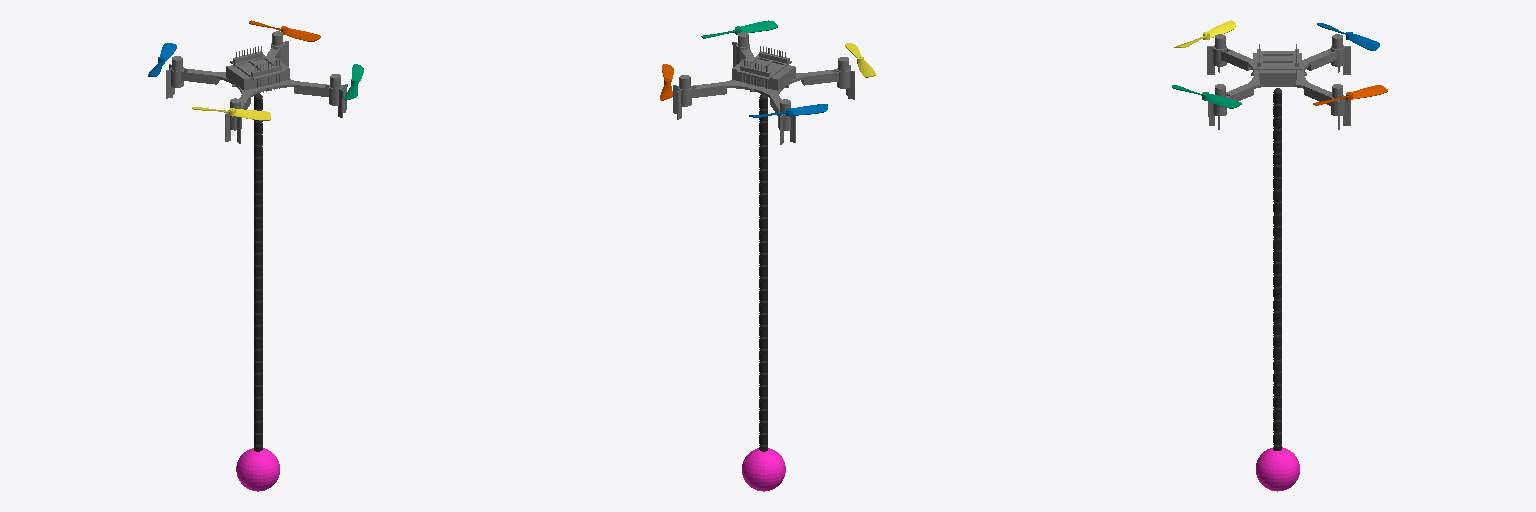
--- Facts derived from the render (not from the file) ---
Views: 3 orthographic renders of the robot side by side, from view 1: azimuth 30°, elevation 25°; view 2: azimuth 150°, elevation 25°; view 3: azimuth 270°, elevation 25°.
Robot: flexible_cable — 70 links, 69 joints (63 revolute, 6 fixed); root link world; default pose: all joints at 0.
Visible links, largest first — view 1: base_link, end_sphere; view 2: base_link, end_sphere; view 3: base_link, end_sphere.
Boxes of the visible links, x1,y1,x2,y2 form: base_link: [166, 31, 347, 143]; end_sphere: [236, 448, 279, 491]; base_link: [673, 32, 854, 144]; end_sphere: [742, 448, 785, 491]; base_link: [1207, 34, 1350, 129]; end_sphere: [1256, 447, 1299, 491].
Bounding box of the posed robot: 0.2255 × 0.2416 × 0.5423 m (x, y, z).
5 mesh visuals loaded from 5 distinct referenced files (5 OBJ).

URDF robot description (flexible_cable):
<?xml version="1.0" ?>
<!-- =================================================================================== -->
<!-- |    This document was autogenerated by xacro from model_impactor.urdf.xacro      | -->
<!-- |    EDITING THIS FILE BY HAND IS NOT RECOMMENDED                                 | -->
<!-- =================================================================================== -->
<robot name="flexible_cable">
  <properties arm="0.08" kf="3.16e-10" km="7.94e-12" thrust2weight="2.25" max_speed_kmh="30" gnd_eff_coeff="11.36859" prop_radius="2.31348e-2" drag_coeff_xy="9.1785e-3" drag_coeff_z="10.311e-3" dw_coeff_1="276700.18" dw_coeff_2=".16" dw_coeff_3="-.11" />
  <material name="blue">
    <color rgba="0.2 0.2 0.2 1"/>
  </material>
  <material name="gray">
    <color rgba="0.25 0.25 0.25 1"/>
  </material>
  <material name="dark_gray">
    <color rgba="0.2 0.2 0.2 1"/>
  </material>
  <material name="pink">
    <color rgba="1.0 0.2 0.8 1"/>
  </material>
  <material name="purple">
    <color rgba="0.8 0.2 0.8 1"/>
  </material>
  <material name="red">
    <color rgba="1.0 0.2 0.2 1"/>
  </material>
  <material name="orange">
    <color rgba="1.0 0.5 0.0 1"/>
  </material>
  <material name="green">
    <color rgba="0.2 0.8 0.2 1"/>
  </material>

  <link name="world"/>
  <link name="base_link">
    <inertial>
      <origin rpy="0 0 0" xyz="0 0 0"/>
      <mass value="0.3"/>
      <inertia ixx="5.6e-4" ixy="0.0" ixz="0.0" iyy="5.6e-4" iyz="0.0" izz="8.6e-4"/>
    </inertial>
    <visual>
      <origin rpy="0 0 0" xyz="0 0 0"/>
      <geometry>
        <mesh filename="./body.obj" scale="2.015 2.015 2.015"/>
      </geometry>
      <material name="grey">
        <color rgba=".5 .5 .5 1"/>
      </material>
    </visual>
    <collision>
      <origin rpy="0 0 0" xyz="0 0 0"/>
      <geometry>
        <box size=".16 .16 .05"/>
      </geometry>
    </collision>
  </link>
  <joint name="fixed_to_world" type="fixed">
    <parent link="world"/>
    <child link="base_link"/>
    <origin rpy="0 0 0" xyz="0 0 0"/>
  </joint>
  <link name="prop0_link">
    <inertial>
      <origin rpy="0 0 0" xyz="0.08 -0.08 0"/>
      <mass value="0"/>
      <inertia ixx="0" ixy="0" ixz="0" iyy="0" iyz="0" izz="0"/>
    </inertial>
    <visual>
      <origin rpy="0 0 0" xyz="0.08 -0.08 0.0175"/>
      <geometry>
        <mesh filename="./propeller0.obj" scale="2.015 2.015 2.015"/>
      </geometry>
    </visual>
  </link>
  <joint name="prop0_joint" type="fixed">
    <parent link="base_link"/>
    <child link="prop0_link"/>
  </joint>
  <link name="prop1_link">
    <inertial>
      <origin rpy="0 0 0" xyz="-0.08 -0.08 0"/>
      <mass value="0"/>
      <inertia ixx="0" ixy="0" ixz="0" iyy="0" iyz="0" izz="0"/>
    </inertial>
    <visual>
      <origin rpy="0 0 0" xyz="-0.08 -0.08 0.0175"/>
      <geometry>
        <mesh filename="./propeller1.obj" scale="2.015 2.015 2.015"/>
      </geometry>
    </visual>
  </link>
  <joint name="prop1_joint" type="fixed">
    <parent link="base_link"/>
    <child link="prop1_link"/>
  </joint>
  <link name="prop2_link">
    <inertial>
      <origin rpy="0 0 0" xyz="-0.08 0.08 0"/>
      <mass value="0"/>
      <inertia ixx="0" ixy="0" ixz="0" iyy="0" iyz="0" izz="0"/>
    </inertial>
    <visual>
      <origin rpy="0 0 0" xyz="-0.08 0.08 0.0175"/>
      <geometry>
        <mesh filename="./propeller2.obj" scale="2.015 2.015 2.015"/>
      </geometry>
    </visual>
  </link>
  <joint name="prop2_joint" type="fixed">
    <parent link="base_link"/>
    <child link="prop2_link"/>
  </joint>
  <link name="prop3_link">
    <inertial>
      <origin rpy="0 0 0" xyz="0.08 0.08 0"/>
      <mass value="0"/>
      <inertia ixx="0" ixy="0" ixz="0" iyy="0" iyz="0" izz="0"/>
    </inertial>
    <visual>
      <origin rpy="0 0 0" xyz="0.08 0.08 0.0175"/>
      <geometry>
        <mesh filename="./propeller3.obj" scale="2.015 2.015 2.015"/>
      </geometry>
    </visual>
  </link>
  <joint name="prop3_joint" type="fixed">
    <parent link="base_link"/>
    <child link="prop3_link"/>
  </joint>
  <link name="center_of_mass_link">
    <inertial>
      <origin rpy="0 0 0" xyz="0 0 0"/>
      <mass value="0"/>
      <inertia ixx="0" ixy="0" ixz="0" iyy="0" iyz="0" izz="0"/>
    </inertial>
  </link>
  <joint name="center_of_mass_joint" type="fixed">
    <parent link="base_link"/>
    <child link="center_of_mass_link"/>
  </joint>

  <!-- Spherical joint -->
  <link name="segment_1_sphere">
    <visual>
      <geometry>
        <sphere radius="0.005"/>
      </geometry>
      <material name="gray"/>
    </visual>
    <collision>
      <geometry>
        <sphere radius="0.005"/>
      </geometry>
    </collision>
    <inertial>
      <mass value="1e-04"/>
      <inertia ixx="1e-6" ixy="0" ixz="0" iyy="1e-6" iyz="0" izz="1e-6"/>
    </inertial>
  </link>
  <joint name="center_of_mass_link_to_segment_1_sphere" type="revolute">
    <parent link="center_of_mass_link"/>
    <child link="segment_1_sphere"/>
    <origin rpy="0 0 0" xyz="0 0 -0.015"/>
    <axis xyz="0 1 0"/>
    <limit effort="10" lower="-3.14" upper="3.14" velocity="3"/>
    <dynamics damping="0.1" friction="0.0"/>
  </joint>
  <!-- Cylinder segment -->
  <link name="segment_1_cylinder">
    <visual>
      <geometry>
        <cylinder length="0.01" radius="0.005"/>
      </geometry>
      <origin rpy="0 0 0" xyz="0 0 -0.0075"/>
      <material name="blue"/>
    </visual>
    <collision>
      <geometry>
        <cylinder length="0.01" radius="0.005"/>
      </geometry>
      <origin rpy="0 0 0" xyz="0 0 -0.0075"/>
    </collision>
    <inertial>
      <mass value="0.0001"/>
      <inertia ixx="2.5e-05" ixy="0" ixz="0" iyy="2.5e-05" iyz="0" izz="1.25e-05"/>
      <origin rpy="0 0 0" xyz="0 0 -0.0075"/>
    </inertial>
  </link>
  <joint name="segment_1_sphere_to_cylinder" type="revolute">
    <parent link="segment_1_sphere"/>
    <child link="segment_1_cylinder"/>
    <origin rpy="0 0 0" xyz="0 0 0"/>
    <axis xyz="1 0 0"/>
    <limit effort="10" lower="-3.14" upper="3.14" velocity="3"/>
    <dynamics damping="0.1" friction="0.0"/>
  </joint>

  <!-- Spherical joint -->
  <link name="segment_2_sphere">
    <visual>
      <geometry>
        <sphere radius="0.005"/>
      </geometry>
      <material name="gray"/>
    </visual>
    <collision>
      <geometry>
        <sphere radius="0.005"/>
      </geometry>
    </collision>
    <inertial>
      <mass value="1e-04"/> # -6
      <inertia ixx="1e-6" ixy="0" ixz="0" iyy="1e-6" iyz="0" izz="1e-6"/> # -12
    </inertial>
  </link>
  <joint name="segment_1_cylinder_to_segment_2_sphere" type="revolute">
    <parent link="segment_1_cylinder"/>
    <child link="segment_2_sphere"/>
    <origin rpy="0 0 0" xyz="0 0 -0.015"/>
    <axis xyz="0 1 0"/>
    <limit effort="10" lower="-3.14" upper="3.14" velocity="3"/>
    <dynamics damping="0.1" friction="0.0"/>
  </joint>
  <!-- Cylinder segment -->
  <link name="segment_2_cylinder">
    <visual>
      <geometry>
        <cylinder length="0.01" radius="0.005"/>
      </geometry>
      <origin rpy="0 0 0" xyz="0 0 -0.0075"/>
      <material name="blue"/>
    </visual>
    <collision>
      <geometry>
        <cylinder length="0.01" radius="0.005"/>
      </geometry>
      <origin rpy="0 0 0" xyz="0 0 -0.0075"/>
    </collision>
    <inertial>
      <mass value="0.0001"/>
      <inertia ixx="2.5e-05" ixy="0" ixz="0" iyy="2.5e-05" iyz="0" izz="1.25e-05"/> #-9
      <origin rpy="0 0 0" xyz="0 0 -0.0075"/>
    </inertial>
  </link>
  <joint name="segment_2_sphere_to_cylinder" type="revolute">
    <parent link="segment_2_sphere"/>
    <child link="segment_2_cylinder"/>
    <origin rpy="0 0 0" xyz="0 0 0"/>
    <axis xyz="1 0 0"/>
    <limit effort="10" lower="-3.14" upper="3.14" velocity="3"/>
    <dynamics damping="0.1" friction="0.0"/>
  </joint>

  <!-- Spherical joint -->
  <link name="segment_3_sphere">
    <visual>
      <geometry>
        <sphere radius="0.005"/>
      </geometry>
      <material name="gray"/>
    </visual>
    <collision>
      <geometry>
        <sphere radius="0.005"/>
      </geometry>
    </collision>
    <inertial>
      <mass value="1e-04"/>
      <inertia ixx="1e-6" ixy="0" ixz="0" iyy="1e-6" iyz="0" izz="1e-6"/>
    </inertial>
  </link>
  <joint name="segment_2_cylinder_to_segment_3_sphere" type="revolute">
    <parent link="segment_2_cylinder"/>
    <child link="segment_3_sphere"/>
    <origin rpy="0 0 0" xyz="0 0 -0.015"/>
    <axis xyz="0 1 0"/>
    <limit effort="10" lower="-3.14" upper="3.14" velocity="3"/>
    <dynamics damping="0.1" friction="0.0"/>
  </joint>
  <!-- Cylinder segment -->
  <link name="segment_3_cylinder">
    <visual>
      <geometry>
        <cylinder length="0.01" radius="0.005"/>
      </geometry>
      <origin rpy="0 0 0" xyz="0 0 -0.0075"/>
      <material name="blue"/>
    </visual>
    <collision>
      <geometry>
        <cylinder length="0.01" radius="0.005"/>
      </geometry>
      <origin rpy="0 0 0" xyz="0 0 -0.0075"/>
    </collision>
    <inertial>
      <mass value="0.0001"/>
      <inertia ixx="2.5e-05" ixy="0" ixz="0" iyy="2.5e-05" iyz="0" izz="1.25e-05"/>
      <origin rpy="0 0 0" xyz="0 0 -0.0075"/>
    </inertial>
  </link>
  <joint name="segment_3_sphere_to_cylinder" type="revolute">
    <parent link="segment_3_sphere"/>
    <child link="segment_3_cylinder"/>
    <origin rpy="0 0 0" xyz="0 0 0"/>
    <axis xyz="1 0 0"/>
    <limit effort="10" lower="-3.14" upper="3.14" velocity="3"/>
    <dynamics damping="0.1" friction="0.0"/>
  </joint>

  <!-- Spherical joint -->
  <link name="segment_4_sphere">
    <visual>
      <geometry>
        <sphere radius="0.005"/>
      </geometry>
      <material name="gray"/>
    </visual>
    <collision>
      <geometry>
        <sphere radius="0.005"/>
      </geometry>
    </collision>
    <inertial>
      <mass value="1e-04"/>
      <inertia ixx="1e-6" ixy="0" ixz="0" iyy="1e-6" iyz="0" izz="1e-6"/>
    </inertial>
  </link>
  <joint name="segment_3_cylinder_to_segment_4_sphere" type="revolute">
    <parent link="segment_3_cylinder"/>
    <child link="segment_4_sphere"/>
    <origin rpy="0 0 0" xyz="0 0 -0.015"/>
    <axis xyz="0 1 0"/>
    <limit effort="10" lower="-3.14" upper="3.14" velocity="3"/>
    <dynamics damping="0.1" friction="0.0"/>
  </joint>
  <!-- Cylinder segment -->
  <link name="segment_4_cylinder">
    <visual>
      <geometry>
        <cylinder length="0.01" radius="0.005"/>
      </geometry>
      <origin rpy="0 0 0" xyz="0 0 -0.0075"/>
      <material name="blue"/>
    </visual>
    <collision>
      <geometry>
        <cylinder length="0.01" radius="0.005"/>
      </geometry>
      <origin rpy="0 0 0" xyz="0 0 -0.0075"/>
    </collision>
    <inertial>
      <mass value="0.0001"/>
      <inertia ixx="2.5e-05" ixy="0" ixz="0" iyy="2.5e-05" iyz="0" izz="1.25e-05"/>
      <origin rpy="0 0 0" xyz="0 0 -0.0075"/>
    </inertial>
  </link>
  <joint name="segment_4_sphere_to_cylinder" type="revolute">
    <parent link="segment_4_sphere"/>
    <child link="segment_4_cylinder"/>
    <origin rpy="0 0 0" xyz="0 0 0"/>
    <axis xyz="1 0 0"/>
    <limit effort="10" lower="-3.14" upper="3.14" velocity="3"/>
    <dynamics damping="0.1" friction="0.0"/>
  </joint>

  <!-- Spherical joint -->
  <link name="segment_5_sphere">
    <visual>
      <geometry>
        <sphere radius="0.005"/>
      </geometry>
      <material name="gray"/>
    </visual>
    <collision>
      <geometry>
        <sphere radius="0.005"/>
      </geometry>
    </collision>
    <inertial>
      <mass value="1e-04"/>
      <inertia ixx="1e-6" ixy="0" ixz="0" iyy="1e-6" iyz="0" izz="1e-6"/>
    </inertial>
  </link>
  <joint name="segment_4_cylinder_to_segment_5_sphere" type="revolute">
    <parent link="segment_4_cylinder"/>
    <child link="segment_5_sphere"/>
    <origin rpy="0 0 0" xyz="0 0 -0.015"/>
    <axis xyz="0 1 0"/>
    <limit effort="10" lower="-3.14" upper="3.14" velocity="3"/>
    <dynamics damping="0.1" friction="0.0"/>
  </joint>
  <!-- Cylinder segment -->
  <link name="segment_5_cylinder">
    <visual>
      <geometry>
        <cylinder length="0.01" radius="0.005"/>
      </geometry>
      <origin rpy="0 0 0" xyz="0 0 -0.0075"/>
      <material name="blue"/>
    </visual>
    <collision>
      <geometry>
        <cylinder length="0.01" radius="0.005"/>
      </geometry>
      <origin rpy="0 0 0" xyz="0 0 -0.0075"/>
    </collision>
    <inertial>
      <mass value="0.0001"/>
      <inertia ixx="2.5e-05" ixy="0" ixz="0" iyy="2.5e-05" iyz="0" izz="1.25e-05"/>
      <origin rpy="0 0 0" xyz="0 0 -0.0075"/>
    </inertial>
  </link>
  <joint name="segment_5_sphere_to_cylinder" type="revolute">
    <parent link="segment_5_sphere"/>
    <child link="segment_5_cylinder"/>
    <origin rpy="0 0 0" xyz="0 0 0"/>
    <axis xyz="1 0 0"/>
    <limit effort="10" lower="-3.14" upper="3.14" velocity="3"/>
    <dynamics damping="0.1" friction="0.0"/>
  </joint>

  <!-- Spherical joint -->
  <link name="segment_6_sphere">
    <visual>
      <geometry>
        <sphere radius="0.005"/>
      </geometry>
      <material name="gray"/>
    </visual>
    <collision>
      <geometry>
        <sphere radius="0.005"/>
      </geometry>
    </collision>
    <inertial>
      <mass value="1e-04"/>
      <inertia ixx="1e-6" ixy="0" ixz="0" iyy="1e-6" iyz="0" izz="1e-6"/>
    </inertial>
  </link>
  <joint name="segment_5_cylinder_to_segment_6_sphere" type="revolute">
    <parent link="segment_5_cylinder"/>
    <child link="segment_6_sphere"/>
    <origin rpy="0 0 0" xyz="0 0 -0.015"/>
    <axis xyz="0 1 0"/>
    <limit effort="10" lower="-3.14" upper="3.14" velocity="3"/>
    <dynamics damping="0.1" friction="0.0"/>
  </joint>
  <!-- Cylinder segment -->
  <link name="segment_6_cylinder">
    <visual>
      <geometry>
        <cylinder length="0.01" radius="0.005"/>
      </geometry>
      <origin rpy="0 0 0" xyz="0 0 -0.0075"/>
      <material name="blue"/>
    </visual>
    <collision>
      <geometry>
        <cylinder length="0.01" radius="0.005"/>
      </geometry>
      <origin rpy="0 0 0" xyz="0 0 -0.0075"/>
    </collision>
    <inertial>
      <mass value="0.0001"/>
      <inertia ixx="2.5e-05" ixy="0" ixz="0" iyy="2.5e-05" iyz="0" izz="1.25e-05"/>
      <origin rpy="0 0 0" xyz="0 0 -0.0075"/>
    </inertial>
  </link>
  <joint name="segment_6_sphere_to_cylinder" type="revolute">
    <parent link="segment_6_sphere"/>
    <child link="segment_6_cylinder"/>
    <origin rpy="0 0 0" xyz="0 0 0"/>
    <axis xyz="1 0 0"/>
    <limit effort="10" lower="-3.14" upper="3.14" velocity="3"/>
    <dynamics damping="0.1" friction="0.0"/>
  </joint>

  <!-- Spherical joint -->
  <link name="segment_7_sphere">
    <visual>
      <geometry>
        <sphere radius="0.005"/>
      </geometry>
      <material name="gray"/>
    </visual>
    <collision>
      <geometry>
        <sphere radius="0.005"/>
      </geometry>
    </collision>
    <inertial>
      <mass value="1e-04"/>
      <inertia ixx="1e-6" ixy="0" ixz="0" iyy="1e-6" iyz="0" izz="1e-6"/>
    </inertial>
  </link>
  <joint name="segment_6_cylinder_to_segment_7_sphere" type="revolute">
    <parent link="segment_6_cylinder"/>
    <child link="segment_7_sphere"/>
    <origin rpy="0 0 0" xyz="0 0 -0.015"/>
    <axis xyz="0 1 0"/>
    <limit effort="10" lower="-3.14" upper="3.14" velocity="3"/>
    <dynamics damping="0.1" friction="0.0"/>
  </joint>
  <!-- Cylinder segment -->
  <link name="segment_7_cylinder">
    <visual>
      <geometry>
        <cylinder length="0.01" radius="0.005"/>
      </geometry>
      <origin rpy="0 0 0" xyz="0 0 -0.0075"/>
      <material name="blue"/>
    </visual>
    <collision>
      <geometry>
        <cylinder length="0.01" radius="0.005"/>
      </geometry>
      <origin rpy="0 0 0" xyz="0 0 -0.0075"/>
    </collision>
    <inertial>
      <mass value="0.0001"/>
      <inertia ixx="2.5e-05" ixy="0" ixz="0" iyy="2.5e-05" iyz="0" izz="1.25e-05"/>
      <origin rpy="0 0 0" xyz="0 0 -0.0075"/>
    </inertial>
  </link>
  <joint name="segment_7_sphere_to_cylinder" type="revolute">
    <parent link="segment_7_sphere"/>
    <child link="segment_7_cylinder"/>
    <origin rpy="0 0 0" xyz="0 0 0"/>
    <axis xyz="1 0 0"/>
    <limit effort="10" lower="-3.14" upper="3.14" velocity="3"/>
    <dynamics damping="0.1" friction="0.0"/>
  </joint>

  <!-- Spherical joint -->
  <link name="segment_8_sphere">
    <visual>
      <geometry>
        <sphere radius="0.005"/>
      </geometry>
      <material name="gray"/>
    </visual>
    <collision>
      <geometry>
        <sphere radius="0.005"/>
      </geometry>
    </collision>
    <inertial>
      <mass value="1e-04"/>
      <inertia ixx="1e-6" ixy="0" ixz="0" iyy="1e-6" iyz="0" izz="1e-6"/>
    </inertial>
  </link>
  <joint name="segment_7_cylinder_to_segment_8_sphere" type="revolute">
    <parent link="segment_7_cylinder"/>
    <child link="segment_8_sphere"/>
    <origin rpy="0 0 0" xyz="0 0 -0.015"/>
    <axis xyz="0 1 0"/>
    <limit effort="10" lower="-3.14" upper="3.14" velocity="3"/>
    <dynamics damping="0.1" friction="0.0"/>
  </joint>
  <!-- Cylinder segment -->
  <link name="segment_8_cylinder">
    <visual>
      <geometry>
        <cylinder length="0.01" radius="0.005"/>
      </geometry>
      <origin rpy="0 0 0" xyz="0 0 -0.0075"/>
      <material name="blue"/>
    </visual>
    <collision>
      <geometry>
        <cylinder length="0.01" radius="0.005"/>
      </geometry>
      <origin rpy="0 0 0" xyz="0 0 -0.0075"/>
    </collision>
    <inertial>
      <mass value="0.0001"/>
      <inertia ixx="2.5e-05" ixy="0" ixz="0" iyy="2.5e-05" iyz="0" izz="1.25e-05"/>
      <origin rpy="0 0 0" xyz="0 0 -0.0075"/>
    </inertial>
  </link>
  <joint name="segment_8_sphere_to_cylinder" type="revolute">
    <parent link="segment_8_sphere"/>
    <child link="segment_8_cylinder"/>
    <origin rpy="0 0 0" xyz="0 0 0"/>
    <axis xyz="1 0 0"/>
    <limit effort="10" lower="-3.14" upper="3.14" velocity="3"/>
    <dynamics damping="0.1" friction="0.0"/>
  </joint>

  <!-- Spherical joint -->
  <link name="segment_9_sphere">
    <visual>
      <geometry>
        <sphere radius="0.005"/>
      </geometry>
      <material name="gray"/>
    </visual>
    <collision>
      <geometry>
        <sphere radius="0.005"/>
      </geometry>
    </collision>
    <inertial>
      <mass value="1e-04"/>
      <inertia ixx="1e-6" ixy="0" ixz="0" iyy="1e-6" iyz="0" izz="1e-6"/>
    </inertial>
  </link>
  <joint name="segment_8_cylinder_to_segment_9_sphere" type="revolute">
    <parent link="segment_8_cylinder"/>
    <child link="segment_9_sphere"/>
    <origin rpy="0 0 0" xyz="0 0 -0.015"/>
    <axis xyz="0 1 0"/>
    <limit effort="10" lower="-3.14" upper="3.14" velocity="3"/>
    <dynamics damping="0.1" friction="0.0"/>
  </joint>
  <!-- Cylinder segment -->
  <link name="segment_9_cylinder">
    <visual>
      <geometry>
        <cylinder length="0.01" radius="0.005"/>
      </geometry>
      <origin rpy="0 0 0" xyz="0 0 -0.0075"/>
      <material name="blue"/>
    </visual>
    <collision>
      <geometry>
        <cylinder length="0.01" radius="0.005"/>
      </geometry>
      <origin rpy="0 0 0" xyz="0 0 -0.0075"/>
    </collision>
    <inertial>
      <mass value="0.0001"/>
      <inertia ixx="2.5e-05" ixy="0" ixz="0" iyy="2.5e-05" iyz="0" izz="1.25e-05"/>
      <origin rpy="0 0 0" xyz="0 0 -0.0075"/>
    </inertial>
  </link>
  <joint name="segment_9_sphere_to_cylinder" type="revolute">
    <parent link="segment_9_sphere"/>
    <child link="segment_9_cylinder"/>
    <origin rpy="0 0 0" xyz="0 0 0"/>
    <axis xyz="1 0 0"/>
    <limit effort="10" lower="-3.14" upper="3.14" velocity="3"/>
    <dynamics damping="0.1" friction="0.0"/>
  </joint>

  <!-- Spherical joint -->
  <link name="segment_10_sphere">
    <visual>
      <geometry>
        <sphere radius="0.005"/>
      </geometry>
      <material name="gray"/>
    </visual>
    <collision>
      <geometry>
        <sphere radius="0.005"/>
      </geometry>
    </collision>
    <inertial>
      <mass value="1e-04"/>
      <inertia ixx="1e-6" ixy="0" ixz="0" iyy="1e-6" iyz="0" izz="1e-6"/>
    </inertial>
  </link>
  <joint name="segment_9_cylinder_to_segment_10_sphere" type="revolute">
    <parent link="segment_9_cylinder"/>
    <child link="segment_10_sphere"/>
    <origin rpy="0 0 0" xyz="0 0 -0.015"/>
    <axis xyz="0 1 0"/>
    <limit effort="10" lower="-3.14" upper="3.14" velocity="3"/>
    <dynamics damping="0.1" friction="0.0"/>
  </joint>
  <!-- Cylinder segment -->
  <link name="segment_10_cylinder">
    <visual>
      <geometry>
        <cylinder length="0.01" radius="0.005"/>
      </geometry>
      <origin rpy="0 0 0" xyz="0 0 -0.0075"/>
      <material name="blue"/>
    </visual>
    <collision>
      <geometry>
        <cylinder length="0.01" radius="0.005"/>
      </geometry>
      <origin rpy="0 0 0" xyz="0 0 -0.0075"/>
    </collision>
    <inertial>
      <mass value="0.0001"/>
      <inertia ixx="2.5e-05" ixy="0" ixz="0" iyy="2.5e-05" iyz="0" izz="1.25e-05"/>
      <origin rpy="0 0 0" xyz="0 0 -0.0075"/>
    </inertial>
  </link>
  <joint name="segment_10_sphere_to_cylinder" type="revolute">
    <parent link="segment_10_sphere"/>
    <child link="segment_10_cylinder"/>
    <origin rpy="0 0 0" xyz="0 0 0"/>
    <axis xyz="1 0 0"/>
    <limit effort="10" lower="-3.14" upper="3.14" velocity="3"/>
    <dynamics damping="0.1" friction="0.0"/>
  </joint>

  <!-- Spherical joint -->
  <link name="segment_11_sphere">
    <visual>
      <geometry>
        <sphere radius="0.005"/>
      </geometry>
      <material name="gray"/>
    </visual>
    <collision>
      <geometry>
        <sphere radius="0.005"/>
      </geometry>
    </collision>
    <inertial>
      <mass value="1e-04"/>
      <inertia ixx="1e-6" ixy="0" ixz="0" iyy="1e-6" iyz="0" izz="1e-6"/>
    </inertial>
  </link>
  <joint name="segment_10_cylinder_to_segment_11_sphere" type="revolute">
    <parent link="segment_10_cylinder"/>
    <child link="segment_11_sphere"/>
    <origin rpy="0 0 0" xyz="0 0 -0.015"/>
    <axis xyz="0 1 0"/>
    <limit effort="10" lower="-3.14" upper="3.14" velocity="3"/>
    <dynamics damping="0.1" friction="0.0"/>
  </joint>
  <!-- Cylinder segment -->
  <link name="segment_11_cylinder">
    <visual>
      <geometry>
        <cylinder length="0.01" radius="0.005"/>
      </geometry>
      <origin rpy="0 0 0" xyz="0 0 -0.0075"/>
      <material name="blue"/>
    </visual>
    <collision>
      <geometry>
        <cylinder length="0.01" radius="0.005"/>
      </geometry>
      <origin rpy="0 0 0" xyz="0 0 -0.0075"/>
    </collision>
    <inertial>
      <mass value="0.0001"/>
      <inertia ixx="2.5e-05" ixy="0" ixz="0" iyy="2.5e-05" iyz="0" izz="1.25e-05"/>
      <origin rpy="0 0 0" xyz="0 0 -0.0075"/>
    </inertial>
  </link>
  <joint name="segment_11_sphere_to_cylinder" type="revolute">
    <parent link="segment_11_sphere"/>
    <child link="segment_11_cylinder"/>
    <origin rpy="0 0 0" xyz="0 0 0"/>
    <axis xyz="1 0 0"/>
    <limit effort="10" lower="-3.14" upper="3.14" velocity="3"/>
    <dynamics damping="0.1" friction="0.0"/>
  </joint>

  <!-- Spherical joint -->
  <link name="segment_12_sphere">
    <visual>
      <geometry>
        <sphere radius="0.005"/>
      </geometry>
      <material name="gray"/>
    </visual>
    <collision>
      <geometry>
        <sphere radius="0.005"/>
      </geometry>
    </collision>
    <inertial>
      <mass value="1e-04"/>
      <inertia ixx="1e-6" ixy="0" ixz="0" iyy="1e-6" iyz="0" izz="1e-6"/>
    </inertial>
  </link>
  <joint name="segment_11_cylinder_to_segment_12_sphere" type="revolute">
    <parent link="segment_11_cylinder"/>
    <child link="segment_12_sphere"/>
    <origin rpy="0 0 0" xyz="0 0 -0.015"/>
    <axis xyz="0 1 0"/>
    <limit effort="10" lower="-3.14" upper="3.14" velocity="3"/>
    <dynamics damping="0.1" friction="0.0"/>
  </joint>
  <!-- Cylinder segment -->
  <link name="segment_12_cylinder">
    <visual>
      <geometry>
        <cylinder length="0.01" radius="0.005"/>
      </geometry>
      <origin rpy="0 0 0" xyz="0 0 -0.0075"/>
      <material name="blue"/>
    </visual>
    <collision>
      <geometry>
        <cylinder length="0.01" radius="0.005"/>
      </geometry>
      <origin rpy="0 0 0" xyz="0 0 -0.0075"/>
    </collision>
    <inertial>
      <mass value="0.0001"/>
      <inertia ixx="2.5e-05" ixy="0" ixz="0" iyy="2.5e-05" iyz="0" izz="1.25e-05"/>
      <origin rpy="0 0 0" xyz="0 0 -0.0075"/>
    </inertial>
  </link>
  <joint name="segment_12_sphere_to_cylinder" type="revolute">
    <parent link="segment_12_sphere"/>
    <child link="segment_12_cylinder"/>
    <origin rpy="0 0 0" xyz="0 0 0"/>
    <axis xyz="1 0 0"/>
    <limit effort="10" lower="-3.14" upper="3.14" velocity="3"/>
    <dynamics damping="0.1" friction="0.0"/>
  </joint>

  <!-- Spherical joint -->
  <link name="segment_13_sphere">
    <visual>
      <geometry>
        <sphere radius="0.005"/>
      </geometry>
      <material name="gray"/>
    </visual>
    <collision>
      <geometry>
        <sphere radius="0.005"/>
      </geometry>
    </collision>
    <inertial>
      <mass value="1e-04"/>
      <inertia ixx="1e-6" ixy="0" ixz="0" iyy="1e-6" iyz="0" izz="1e-6"/>
    </inertial>
  </link>
  <joint name="segment_12_cylinder_to_segment_13_sphere" type="revolute">
    <parent link="segment_12_cylinder"/>
    <child link="segment_13_sphere"/>
    <origin rpy="0 0 0" xyz="0 0 -0.015"/>
    <axis xyz="0 1 0"/>
    <limit effort="10" lower="-3.14" upper="3.14" velocity="3"/>
    <dynamics damping="0.1" friction="0.0"/>
  </joint>
  <!-- Cylinder segment -->
  <link name="segment_13_cylinder">
    <visual>
      <geometry>
        <cylinder length="0.01" radius="0.005"/>
      </geometry>
      <origin rpy="0 0 0" xyz="0 0 -0.0075"/>
      <material name="blue"/>
    </visual>
    <collision>
      <geometry>
        <cylinder length="0.01" radius="0.005"/>
      </geometry>
      <origin rpy="0 0 0" xyz="0 0 -0.0075"/>
    </collision>
    <inertial>
      <mass value="0.0001"/>
      <inertia ixx="2.5e-05" ixy="0" ixz="0" iyy="2.5e-05" iyz="0" izz="1.25e-05"/>
      <origin rpy="0 0 0" xyz="0 0 -0.0075"/>
    </inertial>
  </link>
  <joint name="segment_13_sphere_to_cylinder" type="revolute">
    <parent link="segment_13_sphere"/>
    <child link="segment_13_cylinder"/>
    <origin rpy="0 0 0" xyz="0 0 0"/>
    <axis xyz="1 0 0"/>
    <limit effort="10" lower="-3.14" upper="3.14" velocity="3"/>
    <dynamics damping="0.1" friction="0.0"/>
  </joint>

  <!-- Spherical joint -->
  <link name="segment_14_sphere">
    <visual>
      <geometry>
        <sphere radius="0.005"/>
      </geometry>
      <material name="gray"/>
    </visual>
    <collision>
      <geometry>
        <sphere radius="0.005"/>
      </geometry>
    </collision>
    <inertial>
      <mass value="1e-04"/>
      <inertia ixx="1e-6" ixy="0" ixz="0" iyy="1e-6" iyz="0" izz="1e-6"/>
    </inertial>
  </link>
  <joint name="segment_13_cylinder_to_segment_14_sphere" type="revolute">
    <parent link="segment_13_cylinder"/>
    <child link="segment_14_sphere"/>
    <origin rpy="0 0 0" xyz="0 0 -0.015"/>
    <axis xyz="0 1 0"/>
    <limit effort="10" lower="-3.14" upper="3.14" velocity="3"/>
    <dynamics damping="0.1" friction="0.0"/>
  </joint>
  <!-- Cylinder segment -->
  <link name="segment_14_cylinder">
    <visual>
      <geometry>
        <cylinder length="0.01" radius="0.005"/>
      </geometry>
      <origin rpy="0 0 0" xyz="0 0 -0.0075"/>
      <material name="blue"/>
    </visual>
    <collision>
      <geometry>
        <cylinder length="0.01" radius="0.005"/>
      </geometry>
      <origin rpy="0 0 0" xyz="0 0 -0.0075"/>
    </collision>
    <inertial>
      <mass value="0.0001"/>
      <inertia ixx="2.5e-05" ixy="0" ixz="0" iyy="2.5e-05" iyz="0" izz="1.25e-05"/>
      <origin rpy="0 0 0" xyz="0 0 -0.0075"/>
    </inertial>
  </link>
  <joint name="segment_14_sphere_to_cylinder" type="revolute">
    <parent link="segment_14_sphere"/>
    <child link="segment_14_cylinder"/>
    <origin rpy="0 0 0" xyz="0 0 0"/>
    <axis xyz="1 0 0"/>
    <limit effort="10" lower="-3.14" upper="3.14" velocity="3"/>
    <dynamics damping="0.1" friction="0.0"/>
  </joint>

  <!-- Spherical joint -->
  <link name="segment_15_sphere">
    <visual>
      <geometry>
        <sphere radius="0.005"/>
      </geometry>
      <material name="gray"/>
    </visual>
    <collision>
      <geometry>
        <sphere radius="0.005"/>
      </geometry>
    </collision>
    <inertial>
      <mass value="1e-04"/>
      <inertia ixx="1e-6" ixy="0" ixz="0" iyy="1e-6" iyz="0" izz="1e-6"/>
    </inertial>
  </link>
  <joint name="segment_14_cylinder_to_segment_15_sphere" type="revolute">
    <parent link="segment_14_cylinder"/>
    <child link="segment_15_sphere"/>
    <origin rpy="0 0 0" xyz="0 0 -0.015"/>
    <axis xyz="0 1 0"/>
    <limit effort="10" lower="-3.14" upper="3.14" velocity="3"/>
    <dynamics damping="0.1" friction="0.0"/>
  </joint>
  <!-- Cylinder segment -->
  <link name="segment_15_cylinder">
    <visual>
      <geometry>
        <cylinder length="0.01" radius="0.005"/>
      </geometry>
      <origin rpy="0 0 0" xyz="0 0 -0.0075"/>
      <material name="blue"/>
    </visual>
    <collision>
      <geometry>
        <cylinder length="0.01" radius="0.005"/>
      </geometry>
      <origin rpy="0 0 0" xyz="0 0 -0.0075"/>
    </collision>
    <inertial>
      <mass value="0.0001"/>
      <inertia ixx="2.5e-05" ixy="0" ixz="0" iyy="2.5e-05" iyz="0" izz="1.25e-05"/>
      <origin rpy="0 0 0" xyz="0 0 -0.0075"/>
    </inertial>
  </link>
  <joint name="segment_15_sphere_to_cylinder" type="revolute">
    <parent link="segment_15_sphere"/>
    <child link="segment_15_cylinder"/>
    <origin rpy="0 0 0" xyz="0 0 0"/>
    <axis xyz="1 0 0"/>
    <limit effort="10" lower="-3.14" upper="3.14" velocity="3"/>
    <dynamics damping="0.1" friction="0.0"/>
  </joint>

  <!-- Spherical joint -->
  <link name="segment_16_sphere">
    <visual>
      <geometry>
        <sphere radius="0.005"/>
      </geometry>
      <material name="gray"/>
    </visual>
    <collision>
      <geometry>
        <sphere radius="0.005"/>
      </geometry>
    </collision>
    <inertial>
      <mass value="1e-04"/>
      <inertia ixx="1e-6" ixy="0" ixz="0" iyy="1e-6" iyz="0" izz="1e-6"/>
    </inertial>
  </link>
  <joint name="segment_15_cylinder_to_segment_16_sphere" type="revolute">
    <parent link="segment_15_cylinder"/>
    <child link="segment_16_sphere"/>
    <origin rpy="0 0 0" xyz="0 0 -0.015"/>
    <axis xyz="0 1 0"/>
    <limit effort="10" lower="-3.14" upper="3.14" velocity="3"/>
    <dynamics damping="0.1" friction="0.0"/>
  </joint>
  <!-- Cylinder segment -->
  <link name="segment_16_cylinder">
    <visual>
      <geometry>
        <cylinder length="0.01" radius="0.005"/>
      </geometry>
      <origin rpy="0 0 0" xyz="0 0 -0.0075"/>
      <material name="blue"/>
    </visual>
    <collision>
      <geometry>
        <cylinder length="0.01" radius="0.005"/>
      </geometry>
      <origin rpy="0 0 0" xyz="0 0 -0.0075"/>
    </collision>
    <inertial>
      <mass value="0.0001"/>
      <inertia ixx="2.5e-05" ixy="0" ixz="0" iyy="2.5e-05" iyz="0" izz="1.25e-05"/>
      <origin rpy="0 0 0" xyz="0 0 -0.0075"/>
    </inertial>
  </link>
  <joint name="segment_16_sphere_to_cylinder" type="revolute">
    <parent link="segment_16_sphere"/>
    <child link="segment_16_cylinder"/>
    <origin rpy="0 0 0" xyz="0 0 0"/>
    <axis xyz="1 0 0"/>
    <limit effort="10" lower="-3.14" upper="3.14" velocity="3"/>
    <dynamics damping="0.1" friction="0.0"/>
  </joint>

  <!-- Spherical joint -->
  <link name="segment_17_sphere">
    <visual>
      <geometry>
        <sphere radius="0.005"/>
      </geometry>
      <material name="gray"/>
    </visual>
    <collision>
      <geometry>
        <sphere radius="0.005"/>
      </geometry>
    </collision>
    <inertial>
      <mass value="1e-04"/>
      <inertia ixx="1e-6" ixy="0" ixz="0" iyy="1e-6" iyz="0" izz="1e-6"/>
    </inertial>
  </link>
  <joint name="segment_16_cylinder_to_segment_17_sphere" type="revolute">
    <parent link="segment_16_cylinder"/>
    <child link="segment_17_sphere"/>
    <origin rpy="0 0 0" xyz="0 0 -0.015"/>
    <axis xyz="0 1 0"/>
    <limit effort="10" lower="-3.14" upper="3.14" velocity="3"/>
    <dynamics damping="0.1" friction="0.0"/>
  </joint>
  <!-- Cylinder segment -->
  <link name="segment_17_cylinder">
    <visual>
      <geometry>
        <cylinder length="0.01" radius="0.005"/>
      </geometry>
      <origin rpy="0 0 0" xyz="0 0 -0.0075"/>
      <material name="blue"/>
    </visual>
    <collision>
      <geometry>
        <cylinder length="0.01" radius="0.005"/>
      </geometry>
      <origin rpy="0 0 0" xyz="0 0 -0.0075"/>
    </collision>
    <inertial>
      <mass value="0.0001"/>
      <inertia ixx="2.5e-05" ixy="0" ixz="0" iyy="2.5e-05" iyz="0" izz="1.25e-05"/>
      <origin rpy="0 0 0" xyz="0 0 -0.0075"/>
    </inertial>
  </link>
  <joint name="segment_17_sphere_to_cylinder" type="revolute">
    <parent link="segment_17_sphere"/>
    <child link="segment_17_cylinder"/>
    <origin rpy="0 0 0" xyz="0 0 0"/>
    <axis xyz="1 0 0"/>
    <limit effort="10" lower="-3.14" upper="3.14" velocity="3"/>
    <dynamics damping="0.1" friction="0.0"/>
  </joint>

  <!-- Spherical joint -->
  <link name="segment_18_sphere">
    <visual>
      <geometry>
        <sphere radius="0.005"/>
      </geometry>
      <material name="gray"/>
    </visual>
    <collision>
      <geometry>
        <sphere radius="0.005"/>
      </geometry>
    </collision>
    <inertial>
      <mass value="1e-04"/>
      <inertia ixx="1e-6" ixy="0" ixz="0" iyy="1e-6" iyz="0" izz="1e-6"/>
    </inertial>
  </link>
  <joint name="segment_17_cylinder_to_segment_18_sphere" type="revolute">
    <parent link="segment_17_cylinder"/>
    <child link="segment_18_sphere"/>
    <origin rpy="0 0 0" xyz="0 0 -0.015"/>
    <axis xyz="0 1 0"/>
    <limit effort="10" lower="-3.14" upper="3.14" velocity="3"/>
    <dynamics damping="0.1" friction="0.0"/>
  </joint>
  <!-- Cylinder segment -->
  <link name="segment_18_cylinder">
    <visual>
      <geometry>
        <cylinder length="0.01" radius="0.005"/>
      </geometry>
      <origin rpy="0 0 0" xyz="0 0 -0.0075"/>
      <material name="blue"/>
    </visual>
    <collision>
      <geometry>
        <cylinder length="0.01" radius="0.005"/>
      </geometry>
      <origin rpy="0 0 0" xyz="0 0 -0.0075"/>
    </collision>
    <inertial>
      <mass value="0.0001"/>
      <inertia ixx="2.5e-05" ixy="0" ixz="0" iyy="2.5e-05" iyz="0" izz="1.25e-05"/>
      <origin rpy="0 0 0" xyz="0 0 -0.0075"/>
    </inertial>
  </link>
  <joint name="segment_18_sphere_to_cylinder" type="revolute">
    <parent link="segment_18_sphere"/>
    <child link="segment_18_cylinder"/>
    <origin rpy="0 0 0" xyz="0 0 0"/>
    <axis xyz="1 0 0"/>
    <limit effort="10" lower="-3.14" upper="3.14" velocity="3"/>
    <dynamics damping="0.1" friction="0.0"/>
  </joint>

  <!-- Spherical joint -->
  <link name="segment_19_sphere">
    <visual>
      <geometry>
        <sphere radius="0.005"/>
      </geometry>
      <material name="gray"/>
    </visual>
    <collision>
      <geometry>
        <sphere radius="0.005"/>
      </geometry>
    </collision>
    <inertial>
      <mass value="1e-04"/>
      <inertia ixx="1e-6" ixy="0" ixz="0" iyy="1e-6" iyz="0" izz="1e-6"/>
    </inertial>
  </link>
  <joint name="segment_18_cylinder_to_segment_19_sphere" type="revolute">
    <parent link="segment_18_cylinder"/>
    <child link="segment_19_sphere"/>
    <origin rpy="0 0 0" xyz="0 0 -0.015"/>
    <axis xyz="0 1 0"/>
    <limit effort="10" lower="-3.14" upper="3.14" velocity="3"/>
    <dynamics damping="0.1" friction="0.0"/>
  </joint>
  <!-- Cylinder segment -->
  <link name="segment_19_cylinder">
    <visual>
      <geometry>
        <cylinder length="0.01" radius="0.005"/>
      </geometry>
      <origin rpy="0 0 0" xyz="0 0 -0.0075"/>
      <material name="blue"/>
    </visual>
    <collision>
      <geometry>
        <cylinder length="0.01" radius="0.005"/>
      </geometry>
      <origin rpy="0 0 0" xyz="0 0 -0.0075"/>
    </collision>
    <inertial>
      <mass value="0.0001"/>
      <inertia ixx="2.5e-05" ixy="0" ixz="0" iyy="2.5e-05" iyz="0" izz="1.25e-05"/>
      <origin rpy="0 0 0" xyz="0 0 -0.0075"/>
    </inertial>
  </link>
  <joint name="segment_19_sphere_to_cylinder" type="revolute">
    <parent link="segment_19_sphere"/>
    <child link="segment_19_cylinder"/>
    <origin rpy="0 0 0" xyz="0 0 0"/>
    <axis xyz="1 0 0"/>
    <limit effort="10" lower="-3.14" upper="3.14" velocity="3"/>
    <dynamics damping="0.1" friction="0.0"/>
  </joint>

  <!-- Spherical joint -->
  <link name="segment_20_sphere">
    <visual>
      <geometry>
        <sphere radius="0.005"/>
      </geometry>
      <material name="gray"/>
    </visual>
    <collision>
      <geometry>
        <sphere radius="0.005"/>
      </geometry>
    </collision>
    <inertial>
      <mass value="1e-04"/>
      <inertia ixx="1e-6" ixy="0" ixz="0" iyy="1e-6" iyz="0" izz="1e-6"/>
    </inertial>
  </link>
  <joint name="segment_19_cylinder_to_segment_20_sphere" type="revolute">
    <parent link="segment_19_cylinder"/>
    <child link="segment_20_sphere"/>
    <origin rpy="0 0 0" xyz="0 0 -0.015"/>
    <axis xyz="0 1 0"/>
    <limit effort="10" lower="-3.14" upper="3.14" velocity="3"/>
    <dynamics damping="0.1" friction="0.0"/>
  </joint>
  <!-- Cylinder segment -->
  <link name="segment_20_cylinder">
    <visual>
      <geometry>
        <cylinder length="0.01" radius="0.005"/>
      </geometry>
      <origin rpy="0 0 0" xyz="0 0 -0.0075"/>
      <material name="blue"/>
    </visual>
    <collision>
      <geometry>
        <cylinder length="0.01" radius="0.005"/>
      </geometry>
      <origin rpy="0 0 0" xyz="0 0 -0.0075"/>
    </collision>
    <inertial>
      <mass value="0.0001"/>
      <inertia ixx="2.5e-05" ixy="0" ixz="0" iyy="2.5e-05" iyz="0" izz="1.25e-05"/>
      <origin rpy="0 0 0" xyz="0 0 -0.0075"/>
    </inertial>
  </link>
  <joint name="segment_20_sphere_to_cylinder" type="revolute">
    <parent link="segment_20_sphere"/>
    <child link="segment_20_cylinder"/>
    <origin rpy="0 0 0" xyz="0 0 0"/>
    <axis xyz="1 0 0"/>
    <limit effort="10" lower="-3.14" upper="3.14" velocity="3"/>
    <dynamics damping="0.1" friction="0.0"/>
  </joint>

  <!-- Spherical joint -->
  <link name="segment_21_sphere">
    <visual>
      <geometry>
        <sphere radius="0.005"/>
      </geometry>
      <material name="gray"/>
    </visual>
    <collision>
      <geometry>
        <sphere radius="0.005"/>
      </geometry>
    </collision>
    <inertial>
      <mass value="1e-04"/>
      <inertia ixx="1e-6" ixy="0" ixz="0" iyy="1e-6" iyz="0" izz="1e-6"/>
    </inertial>
  </link>
  <joint name="segment_20_cylinder_to_segment_21_sphere" type="revolute">
    <parent link="segment_20_cylinder"/>
    <child link="segment_21_sphere"/>
    <origin rpy="0 0 0" xyz="0 0 -0.015"/>
    <axis xyz="0 1 0"/>
    <limit effort="10" lower="-3.14" upper="3.14" velocity="3"/>
    <dynamics damping="0.1" friction="0.0"/>
  </joint>
  <!-- Cylinder segment -->
  <link name="segment_21_cylinder">
    <visual>
      <geometry>
        <cylinder length="0.01" radius="0.005"/>
      </geometry>
      <origin rpy="0 0 0" xyz="0 0 -0.0075"/>
      <material name="blue"/>
    </visual>
    <collision>
      <geometry>
        <cylinder length="0.01" radius="0.005"/>
      </geometry>
      <origin rpy="0 0 0" xyz="0 0 -0.0075"/>
    </collision>
    <inertial>
      <mass value="0.0001"/>
      <inertia ixx="2.5e-05" ixy="0" ixz="0" iyy="2.5e-05" iyz="0" izz="1.25e-05"/>
      <origin rpy="0 0 0" xyz="0 0 -0.0075"/>
    </inertial>
  </link>
  <joint name="segment_21_sphere_to_cylinder" type="revolute">
    <parent link="segment_21_sphere"/>
    <child link="segment_21_cylinder"/>
    <origin rpy="0 0 0" xyz="0 0 0"/>
    <axis xyz="1 0 0"/>
    <limit effort="10" lower="-3.14" upper="3.14" velocity="3"/>
    <dynamics damping="0.1" friction="0.0"/>
  </joint>

  <!-- Spherical joint -->
  <link name="segment_22_sphere">
    <visual>
      <geometry>
        <sphere radius="0.005"/>
      </geometry>
      <material name="gray"/>
    </visual>
    <collision>
      <geometry>
        <sphere radius="0.005"/>
      </geometry>
    </collision>
    <inertial>
      <mass value="1e-04"/>
      <inertia ixx="1e-6" ixy="0" ixz="0" iyy="1e-6" iyz="0" izz="1e-6"/>
    </inertial>
  </link>
  <joint name="segment_21_cylinder_to_segment_22_sphere" type="revolute">
    <parent link="segment_21_cylinder"/>
    <child link="segment_22_sphere"/>
    <origin rpy="0 0 0" xyz="0 0 -0.015"/>
    <axis xyz="0 1 0"/>
    <limit effort="10" lower="-3.14" upper="3.14" velocity="3"/>
    <dynamics damping="0.1" friction="0.0"/>
  </joint>
  <!-- Cylinder segment -->
  <link name="segment_22_cylinder">
    <visual>
      <geometry>
        <cylinder length="0.01" radius="0.005"/>
      </geometry>
      <origin rpy="0 0 0" xyz="0 0 -0.0075"/>
      <material name="blue"/>
    </visual>
    <collision>
      <geometry>
        <cylinder length="0.01" radius="0.005"/>
      </geometry>
      <origin rpy="0 0 0" xyz="0 0 -0.0075"/>
    </collision>
    <inertial>
      <mass value="0.0001"/>
      <inertia ixx="2.5e-05" ixy="0" ixz="0" iyy="2.5e-05" iyz="0" izz="1.25e-05"/>
      <origin rpy="0 0 0" xyz="0 0 -0.0075"/>
    </inertial>
  </link>
  <joint name="segment_22_sphere_to_cylinder" type="revolute">
    <parent link="segment_22_sphere"/>
    <child link="segment_22_cylinder"/>
    <origin rpy="0 0 0" xyz="0 0 0"/>
    <axis xyz="1 0 0"/>
    <limit effort="10" lower="-3.14" upper="3.14" velocity="3"/>
    <dynamics damping="0.1" friction="0.0"/>
  </joint>

  <!-- Spherical joint -->
  <link name="segment_23_sphere">
    <visual>
      <geometry>
        <sphere radius="0.005"/>
      </geometry>
      <material name="gray"/>
    </visual>
    <collision>
      <geometry>
        <sphere radius="0.005"/>
      </geometry>
    </collision>
    <inertial>
      <mass value="1e-04"/>
      <inertia ixx="1e-6" ixy="0" ixz="0" iyy="1e-6" iyz="0" izz="1e-6"/>
    </inertial>
  </link>
  <joint name="segment_22_cylinder_to_segment_23_sphere" type="revolute">
    <parent link="segment_22_cylinder"/>
    <child link="segment_23_sphere"/>
    <origin rpy="0 0 0" xyz="0 0 -0.015"/>
    <axis xyz="0 1 0"/>
    <limit effort="10" lower="-3.14" upper="3.14" velocity="3"/>
    <dynamics damping="0.1" friction="0.0"/>
  </joint>
  <!-- Cylinder segment -->
  <link name="segment_23_cylinder">
    <visual>
      <geometry>
        <cylinder length="0.01" radius="0.005"/>
      </geometry>
      <origin rpy="0 0 0" xyz="0 0 -0.0075"/>
      <material name="blue"/>
    </visual>
    <collision>
      <geometry>
        <cylinder length="0.01" radius="0.005"/>
      </geometry>
      <origin rpy="0 0 0" xyz="0 0 -0.0075"/>
    </collision>
    <inertial>
      <mass value="0.0001"/>
      <inertia ixx="2.5e-05" ixy="0" ixz="0" iyy="2.5e-05" iyz="0" izz="1.25e-05"/>
      <origin rpy="0 0 0" xyz="0 0 -0.0075"/>
    </inertial>
  </link>
  <joint name="segment_23_sphere_to_cylinder" type="revolute">
    <parent link="segment_23_sphere"/>
    <child link="segment_23_cylinder"/>
    <origin rpy="0 0 0" xyz="0 0 0"/>
    <axis xyz="1 0 0"/>
    <limit effort="10" lower="-3.14" upper="3.14" velocity="3"/>
    <dynamics damping="0.1" friction="0.0"/>
  </joint>

  <!-- Spherical joint -->
  <link name="segment_24_sphere">
    <visual>
      <geometry>
        <sphere radius="0.005"/>
      </geometry>
      <material name="gray"/>
    </visual>
    <collision>
      <geometry>
        <sphere radius="0.005"/>
      </geometry>
    </collision>
    <inertial>
      <mass value="1e-04"/>
      <inertia ixx="1e-6" ixy="0" ixz="0" iyy="1e-6" iyz="0" izz="1e-6"/>
    </inertial>
  </link>
  <joint name="segment_23_cylinder_to_segment_24_sphere" type="revolute">
    <parent link="segment_23_cylinder"/>
    <child link="segment_24_sphere"/>
    <origin rpy="0 0 0" xyz="0 0 -0.015"/>
    <axis xyz="0 1 0"/>
    <limit effort="10" lower="-3.14" upper="3.14" velocity="3"/>
    <dynamics damping="0.1" friction="0.0"/>
  </joint>
  <!-- Cylinder segment -->
  <link name="segment_24_cylinder">
    <visual>
      <geometry>
        <cylinder length="0.01" radius="0.005"/>
      </geometry>
      <origin rpy="0 0 0" xyz="0 0 -0.0075"/>
      <material name="blue"/>
    </visual>
    <collision>
      <geometry>
        <cylinder length="0.01" radius="0.005"/>
      </geometry>
      <origin rpy="0 0 0" xyz="0 0 -0.0075"/>
    </collision>
    <inertial>
      <mass value="0.0001"/>
      <inertia ixx="2.5e-05" ixy="0" ixz="0" iyy="2.5e-05" iyz="0" izz="1.25e-05"/>
      <origin rpy="0 0 0" xyz="0 0 -0.0075"/>
    </inertial>
  </link>
  <joint name="segment_24_sphere_to_cylinder" type="revolute">
    <parent link="segment_24_sphere"/>
    <child link="segment_24_cylinder"/>
    <origin rpy="0 0 0" xyz="0 0 0"/>
    <axis xyz="1 0 0"/>
    <limit effort="10" lower="-3.14" upper="3.14" velocity="3"/>
    <dynamics damping="0.1" friction="0.0"/>
  </joint>

  <!-- Spherical joint -->
  <link name="segment_25_sphere">
    <visual>
      <geometry>
        <sphere radius="0.005"/>
      </geometry>
      <material name="gray"/>
    </visual>
    <collision>
      <geometry>
        <sphere radius="0.005"/>
      </geometry>
    </collision>
    <inertial>
      <mass value="1e-04"/>
      <inertia ixx="1e-6" ixy="0" ixz="0" iyy="1e-6" iyz="0" izz="1e-6"/>
    </inertial>
  </link>
  <joint name="segment_24_cylinder_to_segment_25_sphere" type="revolute">
    <parent link="segment_24_cylinder"/>
    <child link="segment_25_sphere"/>
    <origin rpy="0 0 0" xyz="0 0 -0.015"/>
    <axis xyz="0 1 0"/>
    <limit effort="10" lower="-3.14" upper="3.14" velocity="3"/>
    <dynamics damping="0.1" friction="0.0"/>
  </joint>
  <!-- Cylinder segment -->
  <link name="segment_25_cylinder">
    <visual>
      <geometry>
        <cylinder length="0.01" radius="0.005"/>
      </geometry>
      <origin rpy="0 0 0" xyz="0 0 -0.0075"/>
      <material name="blue"/>
    </visual>
    <collision>
      <geometry>
        <cylinder length="0.01" radius="0.005"/>
      </geometry>
      <origin rpy="0 0 0" xyz="0 0 -0.0075"/>
    </collision>
    <inertial>
      <mass value="0.0001"/>
      <inertia ixx="2.5e-05" ixy="0" ixz="0" iyy="2.5e-05" iyz="0" izz="1.25e-05"/>
      <origin rpy="0 0 0" xyz="0 0 -0.0075"/>
    </inertial>
  </link>
  <joint name="segment_25_sphere_to_cylinder" type="revolute">
    <parent link="segment_25_sphere"/>
    <child link="segment_25_cylinder"/>
    <origin rpy="0 0 0" xyz="0 0 0"/>
    <axis xyz="1 0 0"/>
    <limit effort="10" lower="-3.14" upper="3.14" velocity="3"/>
    <dynamics damping="0.1" friction="0.0"/>
  </joint>

  <!-- Spherical joint -->
  <link name="segment_26_sphere">
    <visual>
      <geometry>
        <sphere radius="0.005"/>
      </geometry>
      <material name="gray"/>
    </visual>
    <collision>
      <geometry>
        <sphere radius="0.005"/>
      </geometry>
    </collision>
    <inertial>
      <mass value="1e-04"/>
      <inertia ixx="1e-6" ixy="0" ixz="0" iyy="1e-6" iyz="0" izz="1e-6"/>
    </inertial>
  </link>
  <joint name="segment_25_cylinder_to_segment_26_sphere" type="revolute">
    <parent link="segment_25_cylinder"/>
    <child link="segment_26_sphere"/>
    <origin rpy="0 0 0" xyz="0 0 -0.015"/>
    <axis xyz="0 1 0"/>
    <limit effort="10" lower="-3.14" upper="3.14" velocity="3"/>
    <dynamics damping="0.1" friction="0.0"/>
  </joint>
  <!-- Cylinder segment -->
  <link name="segment_26_cylinder">
    <visual>
      <geometry>
        <cylinder length="0.01" radius="0.005"/>
      </geometry>
      <origin rpy="0 0 0" xyz="0 0 -0.0075"/>
      <material name="blue"/>
    </visual>
    <collision>
      <geometry>
        <cylinder length="0.01" radius="0.005"/>
      </geometry>
      <origin rpy="0 0 0" xyz="0 0 -0.0075"/>
    </collision>
    <inertial>
      <mass value="0.0001"/>
      <inertia ixx="2.5e-05" ixy="0" ixz="0" iyy="2.5e-05" iyz="0" izz="1.25e-05"/>
      <origin rpy="0 0 0" xyz="0 0 -0.0075"/>
    </inertial>
  </link>
  <joint name="segment_26_sphere_to_cylinder" type="revolute">
    <parent link="segment_26_sphere"/>
    <child link="segment_26_cylinder"/>
    <origin rpy="0 0 0" xyz="0 0 0"/>
    <axis xyz="1 0 0"/>
    <limit effort="10" lower="-3.14" upper="3.14" velocity="3"/>
    <dynamics damping="0.1" friction="0.0"/>
  </joint>

  <!-- Spherical joint -->
  <link name="segment_27_sphere">
    <visual>
      <geometry>
        <sphere radius="0.005"/>
      </geometry>
      <material name="gray"/>
    </visual>
    <collision>
      <geometry>
        <sphere radius="0.005"/>
      </geometry>
    </collision>
    <inertial>
      <mass value="1e-04"/>
      <inertia ixx="1e-6" ixy="0" ixz="0" iyy="1e-6" iyz="0" izz="1e-6"/>
    </inertial>
  </link>
  <joint name="segment_26_cylinder_to_segment_27_sphere" type="revolute">
    <parent link="segment_26_cylinder"/>
    <child link="segment_27_sphere"/>
    <origin rpy="0 0 0" xyz="0 0 -0.015"/>
    <axis xyz="0 1 0"/>
    <limit effort="10" lower="-3.14" upper="3.14" velocity="3"/>
    <dynamics damping="0.1" friction="0.0"/>
  </joint>
  <!-- Cylinder segment -->
  <link name="segment_27_cylinder">
    <visual>
      <geometry>
        <cylinder length="0.01" radius="0.005"/>
      </geometry>
      <origin rpy="0 0 0" xyz="0 0 -0.0075"/>
      <material name="blue"/>
    </visual>
    <collision>
      <geometry>
        <cylinder length="0.01" radius="0.005"/>
      </geometry>
      <origin rpy="0 0 0" xyz="0 0 -0.0075"/>
    </collision>
    <inertial>
      <mass value="0.0001"/>
      <inertia ixx="2.5e-05" ixy="0" ixz="0" iyy="2.5e-05" iyz="0" izz="1.25e-05"/>
      <origin rpy="0 0 0" xyz="0 0 -0.0075"/>
    </inertial>
  </link>
  <joint name="segment_27_sphere_to_cylinder" type="revolute">
    <parent link="segment_27_sphere"/>
    <child link="segment_27_cylinder"/>
    <origin rpy="0 0 0" xyz="0 0 0"/>
    <axis xyz="1 0 0"/>
    <limit effort="10" lower="-3.14" upper="3.14" velocity="3"/>
    <dynamics damping="0.1" friction="0.0"/>
  </joint>

  <!-- Spherical joint -->
  <link name="segment_28_sphere">
    <visual>
      <geometry>
        <sphere radius="0.005"/>
      </geometry>
      <material name="gray"/>
    </visual>
    <collision>
      <geometry>
        <sphere radius="0.005"/>
      </geometry>
    </collision>
    <inertial>
      <mass value="1e-04"/>
      <inertia ixx="1e-6" ixy="0" ixz="0" iyy="1e-6" iyz="0" izz="1e-6"/>
    </inertial>
  </link>
  <joint name="segment_27_cylinder_to_segment_28_sphere" type="revolute">
    <parent link="segment_27_cylinder"/>
    <child link="segment_28_sphere"/>
    <origin rpy="0 0 0" xyz="0 0 -0.015"/>
    <axis xyz="0 1 0"/>
    <limit effort="10" lower="-3.14" upper="3.14" velocity="3"/>
    <dynamics damping="0.1" friction="0.0"/>
  </joint>
  <!-- Cylinder segment -->
  <link name="segment_28_cylinder">
    <visual>
      <geometry>
        <cylinder length="0.01" radius="0.005"/>
      </geometry>
      <origin rpy="0 0 0" xyz="0 0 -0.0075"/>
      <material name="blue"/>
    </visual>
    <collision>
      <geometry>
        <cylinder length="0.01" radius="0.005"/>
      </geometry>
      <origin rpy="0 0 0" xyz="0 0 -0.0075"/>
    </collision>
    <inertial>
      <mass value="0.0001"/>
      <inertia ixx="2.5e-05" ixy="0" ixz="0" iyy="2.5e-05" iyz="0" izz="1.25e-05"/>
      <origin rpy="0 0 0" xyz="0 0 -0.0075"/>
    </inertial>
  </link>
  <joint name="segment_28_sphere_to_cylinder" type="revolute">
    <parent link="segment_28_sphere"/>
    <child link="segment_28_cylinder"/>
    <origin rpy="0 0 0" xyz="0 0 0"/>
    <axis xyz="1 0 0"/>
    <limit effort="10" lower="-3.14" upper="3.14" velocity="3"/>
    <dynamics damping="0.1" friction="0.0"/>
  </joint>

  <!-- Spherical joint -->
  <link name="segment_29_sphere">
    <visual>
      <geometry>
        <sphere radius="0.005"/>
      </geometry>
      <material name="gray"/>
    </visual>
    <collision>
      <geometry>
        <sphere radius="0.005"/>
      </geometry>
    </collision>
    <inertial>
      <mass value="1e-04"/>
      <inertia ixx="1e-6" ixy="0" ixz="0" iyy="1e-6" iyz="0" izz="1e-6"/>
    </inertial>
  </link>
  <joint name="segment_28_cylinder_to_segment_29_sphere" type="revolute">
    <parent link="segment_28_cylinder"/>
    <child link="segment_29_sphere"/>
    <origin rpy="0 0 0" xyz="0 0 -0.015"/>
    <axis xyz="0 1 0"/>
    <limit effort="10" lower="-3.14" upper="3.14" velocity="3"/>
    <dynamics damping="0.1" friction="0.0"/>
  </joint>
  <!-- Cylinder segment -->
  <link name="segment_29_cylinder">
    <visual>
      <geometry>
        <cylinder length="0.01" radius="0.005"/>
      </geometry>
      <origin rpy="0 0 0" xyz="0 0 -0.0075"/>
      <material name="blue"/>
    </visual>
    <collision>
      <geometry>
        <cylinder length="0.01" radius="0.005"/>
      </geometry>
      <origin rpy="0 0 0" xyz="0 0 -0.0075"/>
    </collision>
    <inertial>
      <mass value="0.0001"/>
      <inertia ixx="2.5e-05" ixy="0" ixz="0" iyy="2.5e-05" iyz="0" izz="1.25e-05"/>
      <origin rpy="0 0 0" xyz="0 0 -0.0075"/>
    </inertial>
  </link>
  <joint name="segment_29_sphere_to_cylinder" type="revolute">
    <parent link="segment_29_sphere"/>
    <child link="segment_29_cylinder"/>
    <origin rpy="0 0 0" xyz="0 0 0"/>
    <axis xyz="1 0 0"/>
    <limit effort="10" lower="-3.14" upper="3.14" velocity="3"/>
    <dynamics damping="0.1" friction="0.0"/>
  </joint>

  <!-- Spherical joint -->
  <link name="segment_30_sphere">
    <visual>
      <geometry>
        <sphere radius="0.005"/>
      </geometry>
      <material name="gray"/>
    </visual>
    <collision>
      <geometry>
        <sphere radius="0.005"/>
      </geometry>
    </collision>
    <inertial>
      <mass value="1e-04"/>
      <inertia ixx="1e-6" ixy="0" ixz="0" iyy="1e-6" iyz="0" izz="1e-6"/>
    </inertial>
  </link>
  <joint name="segment_29_cylinder_to_segment_30_sphere" type="revolute">
    <parent link="segment_29_cylinder"/>
    <child link="segment_30_sphere"/>
    <origin rpy="0 0 0" xyz="0 0 -0.015"/>
    <axis xyz="0 1 0"/>
    <limit effort="10" lower="-3.14" upper="3.14" velocity="3"/>
    <dynamics damping="0.1" friction="0.0"/>
  </joint>
  <!-- Cylinder segment -->
  <link name="segment_30_cylinder">
    <visual>
      <geometry>
        <cylinder length="0.01" radius="0.005"/>
      </geometry>
      <origin rpy="0 0 0" xyz="0 0 -0.0075"/>
      <material name="blue"/>
    </visual>
    <collision>
      <geometry>
        <cylinder length="0.01" radius="0.005"/>
      </geometry>
      <origin rpy="0 0 0" xyz="0 0 -0.0075"/>
    </collision>
    <inertial>
      <mass value="0.0001"/>
      <inertia ixx="2.5e-05" ixy="0" ixz="0" iyy="2.5e-05" iyz="0" izz="1.25e-05"/>
      <origin rpy="0 0 0" xyz="0 0 -0.0075"/>
    </inertial>
  </link>
  <joint name="segment_30_sphere_to_cylinder" type="revolute">
    <parent link="segment_30_sphere"/>
    <child link="segment_30_cylinder"/>
    <origin rpy="0 0 0" xyz="0 0 0"/>
    <axis xyz="1 0 0"/>
    <limit effort="10" lower="-3.14" upper="3.14" velocity="3"/>
    <dynamics damping="0.1" friction="0.0"/>
  </joint>

  <!-- Spherical joint -->
  <link name="segment_31_sphere">
    <visual>
      <geometry>
        <sphere radius="0.005"/>
      </geometry>
      <material name="gray"/>
    </visual>
    <collision>
      <geometry>
        <sphere radius="0.005"/>
      </geometry>
    </collision>
    <inertial>
      <mass value="1e-04"/>
      <inertia ixx="1e-6" ixy="0" ixz="0" iyy="1e-6" iyz="0" izz="1e-6"/>
    </inertial>
  </link>
  <joint name="segment_30_cylinder_to_segment_31_sphere" type="revolute">
    <parent link="segment_30_cylinder"/>
    <child link="segment_31_sphere"/>
    <origin rpy="0 0 0" xyz="0 0 -0.015"/>
    <axis xyz="0 1 0"/>
    <limit effort="10" lower="-3.14" upper="3.14" velocity="3"/>
    <dynamics damping="0.1" friction="0.0"/>
  </joint>
  <!-- Cylinder segment -->
  <link name="segment_31_cylinder">
    <visual>
      <geometry>
        <cylinder length="0.01" radius="0.005"/>
      </geometry>
      <origin rpy="0 0 0" xyz="0 0 -0.0075"/>
      <material name="blue"/>
    </visual>
    <collision>
      <geometry>
        <cylinder length="0.01" radius="0.005"/>
      </geometry>
      <origin rpy="0 0 0" xyz="0 0 -0.0075"/>
    </collision>
    <inertial>
      <mass value="0.0001"/>
      <inertia ixx="2.5e-05" ixy="0" ixz="0" iyy="2.5e-05" iyz="0" izz="1.25e-05"/>
      <origin rpy="0 0 0" xyz="0 0 -0.0075"/>
    </inertial>
  </link>
  <joint name="segment_31_sphere_to_cylinder" type="revolute">
    <parent link="segment_31_sphere"/>
    <child link="segment_31_cylinder"/>
    <origin rpy="0 0 0" xyz="0 0 0"/>
    <axis xyz="1 0 0"/>
    <limit effort="10" lower="-3.14" upper="3.14" velocity="3"/>
    <dynamics damping="0.1" friction="0.0"/>
  </joint>

  <!-- add one sphere at the end -->
  <link name="end_sphere">
    <visual>
      <geometry>
        <sphere radius="0.025"/>
      </geometry>
      <material name="pink"/>
    </visual>
    <collision>
      <geometry>
        <sphere radius="0.025"/>
      </geometry>
    </collision>
    <inertial>
      <!-- <mass value="0.117"/> -->
      <mass value="0.068"/>
      <inertia ixx="0.00017655" ixy="0" ixz="0" iyy="0.00017655" iyz="0" izz="0.00017655"/>
    </inertial>
  </link>
  <joint name="joint_end_sphere" type="revolute">
    <parent link="segment_31_cylinder"/>
    <child link="end_sphere"/>
    <origin rpy="0 0 0" xyz="0 0 -0.015"/>
    <axis xyz="0 1 0"/>
    <limit effort="10" lower="-3.14" upper="3.14" velocity="3"/>
    <dynamics damping="0.1" friction="0.0"/>
  </joint>

</robot>
